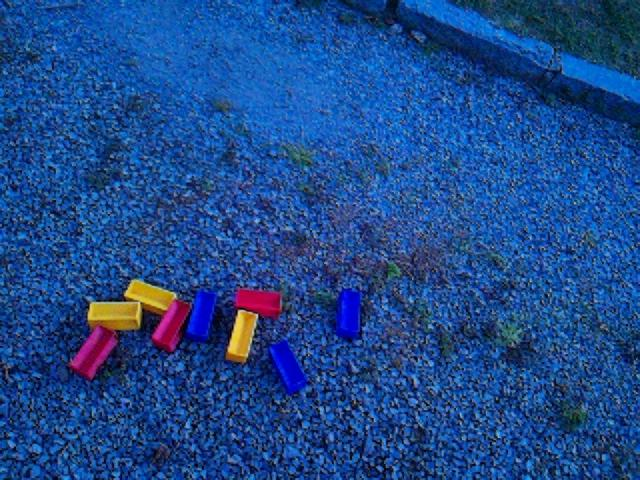blue: (269, 339, 308, 395), (186, 289, 217, 343), (335, 288, 363, 340)
red: (67, 324, 118, 381), (151, 299, 191, 353), (234, 288, 283, 320)
yellow: (124, 279, 177, 315), (225, 309, 259, 364), (87, 301, 143, 332)
